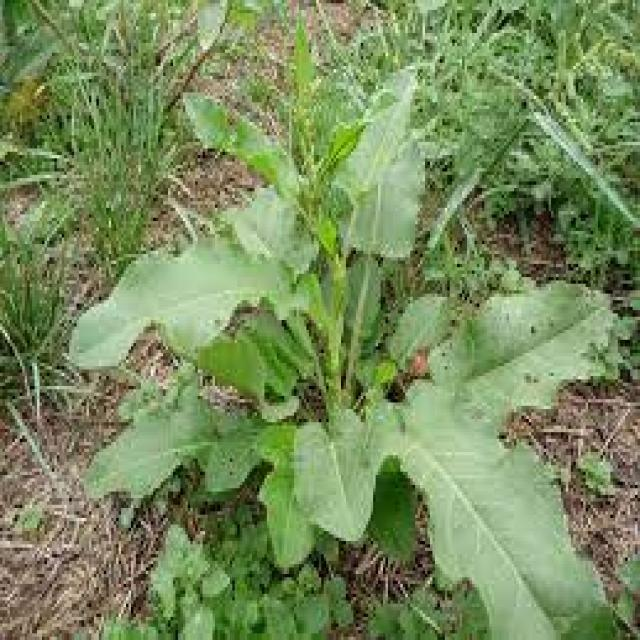organic waste: (64, 62, 640, 640)
